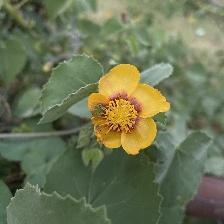indian mallow: (86, 62, 175, 159)
